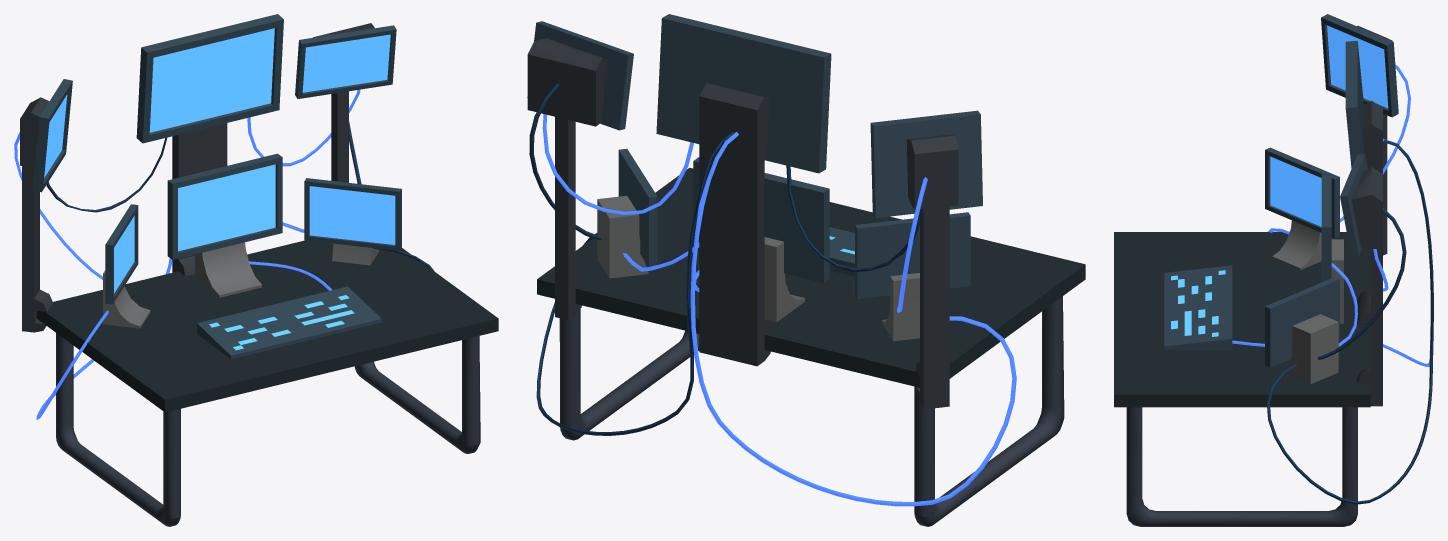
File: -7_props.fbx
3 views of the same model, side by side, from view 1: azimuth 30°, elevation 25°; view 2: azimuth 150°, elevation 25°; view 3: azimuth 270°, elevation 25° (orthographic). The views are drawn at different scales.
Parts seen in each view (by area): view 1: компы, стол, ножки стола, подставки длинные, клавиатура, подставки, провода; view 2: компы, подставки длинные, стол, ножки стола, провода, подставки, клавиатура; view 3: стол, компы, ножки стола, подставки длинные, клавиатура, подставки, провода.
Boxes of the visible parts, x1,y1,x2,y2 form: компы: [32, 14, 401, 304]; стол: [37, 240, 498, 412]; ножки стола: [56, 333, 480, 526]; подставки длинные: [20, 23, 374, 332]; клавиатура: [197, 286, 381, 358]; подставки: [103, 242, 379, 328]; провода: [14, 89, 434, 419]; компы: [527, 14, 982, 298]; подставки длинные: [527, 38, 958, 409]; стол: [537, 167, 1085, 387]; ножки стола: [559, 296, 1064, 526]; провода: [529, 83, 1016, 506]; подставки: [597, 195, 919, 341]; клавиатура: [829, 227, 854, 276]; стол: [1114, 232, 1370, 407]; компы: [1265, 14, 1398, 367]; ножки стола: [1126, 407, 1357, 526]; подставки длинные: [1351, 25, 1392, 406]; клавиатура: [1164, 265, 1232, 349]; подставки: [1272, 220, 1343, 384]; провода: [1232, 64, 1433, 504].
Size of the model in its own units: 346 by 326 by 249.
